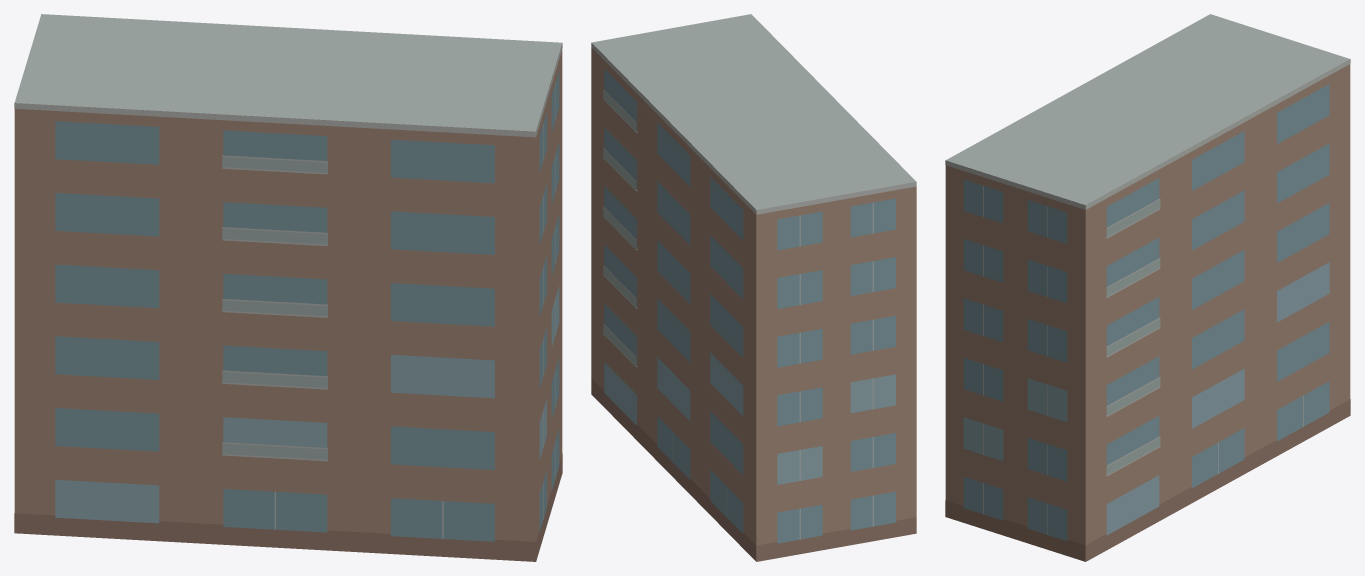
File: survey-upis-32631759.glb
3 views of the same model, side by side, from view 1: azimuth 30°, elevation 25°; view 2: azimuth 150°, elevation 25°; view 3: azimuth 270°, elevation 25° (orthographic). The views are drawn at different scales.
Parts seen in each view (by area): view 1: survey-upis-32631759.tmp; view 2: survey-upis-32631759.tmp; view 3: survey-upis-32631759.tmp.
Boxes of the visible parts, x1,y1,x2,y2 form: survey-upis-32631759.tmp: [14, 14, 562, 561]; survey-upis-32631759.tmp: [591, 14, 916, 561]; survey-upis-32631759.tmp: [945, 14, 1350, 561].
Size of the model in its own units: 21.06 by 18.3 by 18.84.
